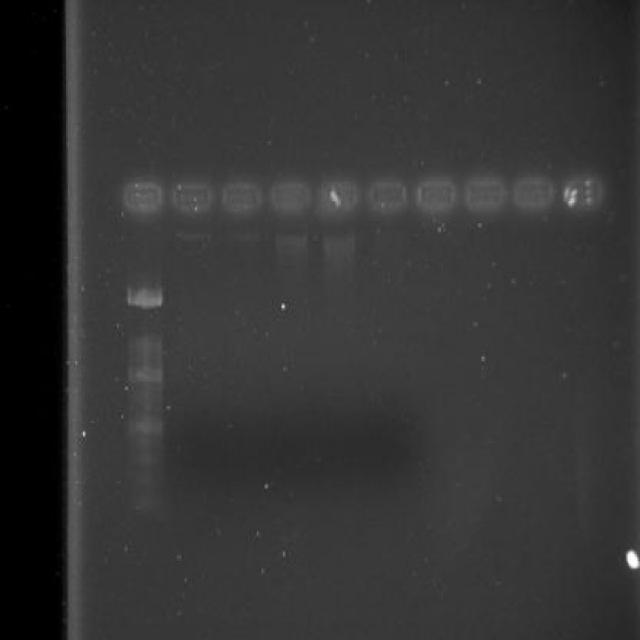L: (113, 166, 616, 227)
M: (118, 256, 170, 526)
P: (123, 279, 166, 310), (126, 414, 166, 438), (126, 363, 165, 386), (124, 330, 164, 352), (126, 472, 165, 494), (124, 494, 162, 516), (126, 452, 165, 470)
Pc: (313, 174, 362, 220), (561, 170, 607, 218), (462, 172, 507, 220), (414, 174, 458, 218), (512, 172, 556, 216), (119, 175, 164, 218), (168, 176, 214, 218), (366, 174, 408, 217), (268, 176, 312, 216), (219, 178, 264, 216)
